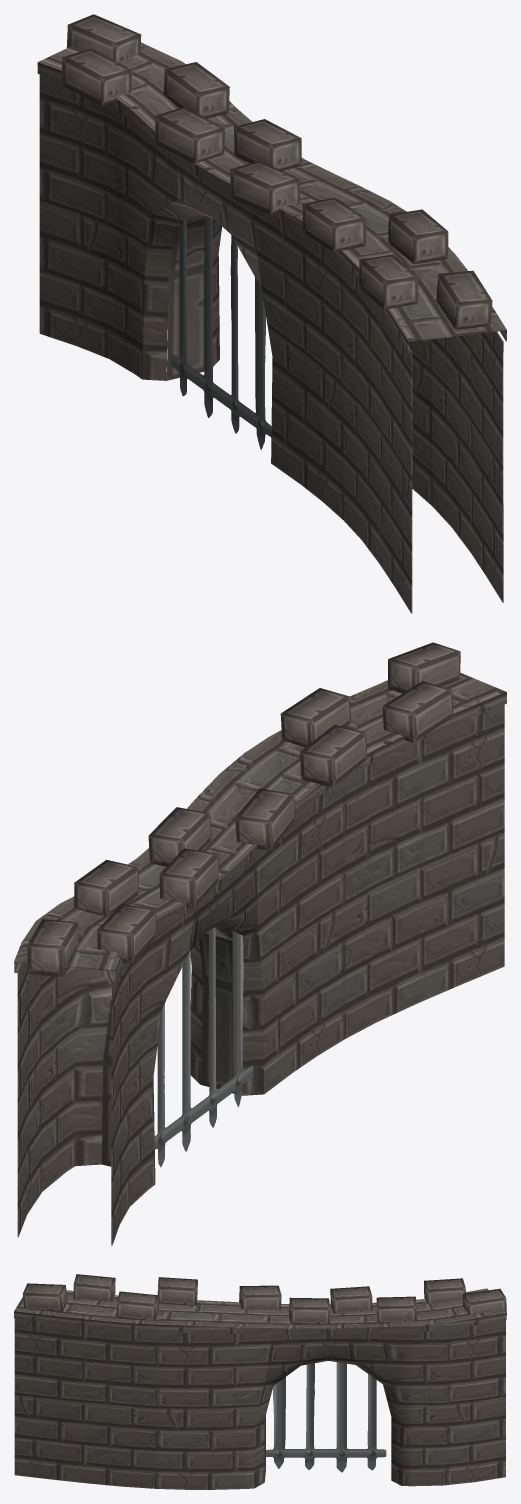
The model's file is GatepiecesV2_breakable.fbx.
The picture shows the model from 3 angles, top to bottom: view 1: azimuth 30°, elevation 25°; view 2: azimuth 150°, elevation 25°; view 3: azimuth 270°, elevation 25°; orthographic projection. The views are drawn at different scales.
Visible parts, largest first — view 1: shard46, shard52, shard50, shard48, shard49, polySurface141, shard47, shard59, polySurface159, polySurface157, polySurface161, polySurface162 (+7 smaller); view 2: shard52, shard45, shard48, shard46, shard53, shard47, polySurface141, shard49, polySurface162, polySurface164, polySurface163, polySurface161 (+8 smaller); view 3: shard50, shard45, polySurface141, shard47, shard53, shard46, polySurface165, shard48, polySurface163, polySurface160, polySurface162, polySurface159 (+5 smaller).
Boxes of the visible parts, x1,y1,x2,y2 form: shard46: (37, 46, 234, 378); shard52: (321, 245, 412, 613); shard50: (283, 158, 503, 602); shard48: (196, 156, 349, 501); shard49: (142, 161, 261, 380); polySurface141: (171, 215, 271, 449); shard47: (322, 199, 506, 352); shard59: (408, 339, 432, 505); polySurface159: (154, 106, 225, 163); polySurface157: (61, 48, 131, 105); polySurface161: (230, 160, 299, 214); polySurface162: (302, 197, 366, 252); shard52: (317, 704, 504, 1055); shard45: (14, 848, 148, 1237); shard48: (201, 773, 325, 1093); shard46: (65, 859, 220, 1245); shard53: (190, 929, 264, 1095); shard47: (219, 673, 506, 790); polySurface141: (154, 927, 252, 1167); shard49: (102, 856, 257, 1166); polySurface162: (300, 725, 367, 787); polySurface164: (382, 681, 453, 742); polySurface163: (280, 688, 350, 747); polySurface161: (235, 788, 295, 850); shard50: (14, 1317, 328, 1489); shard45: (265, 1309, 506, 1486); polySurface141: (266, 1362, 386, 1472); shard47: (14, 1290, 219, 1332); shard53: (244, 1384, 273, 1488); shard46: (328, 1288, 488, 1327); polySurface165: (22, 1283, 67, 1311); shard48: (192, 1300, 289, 1319); polySurface163: (116, 1291, 158, 1320); polySurface160: (289, 1297, 330, 1324); polySurface162: (157, 1277, 197, 1305); polySurface159: (330, 1286, 372, 1313).
Size of the model in its own units: 3.92 by 3.73 by 8.51.
